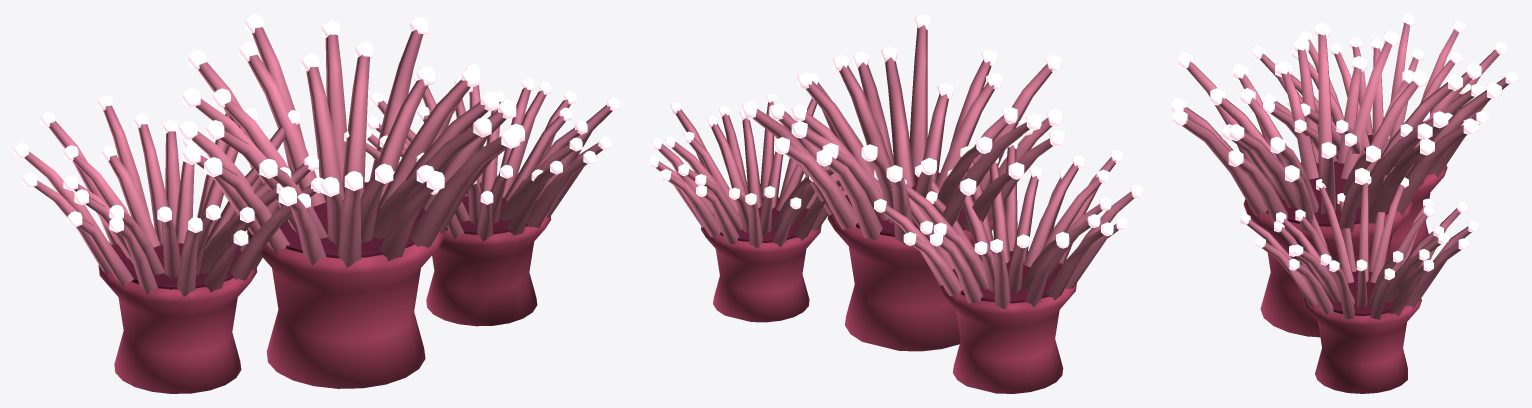
Rendered from anemone_patch.glb.
The picture shows the model from 3 angles, left to right: view 1: azimuth 30°, elevation 25°; view 2: azimuth 150°, elevation 25°; view 3: azimuth 270°, elevation 25°; orthographic projection. The views are drawn at different scales.
Visible parts, largest first — view 1: anemone_patch_mesh; view 2: anemone_patch_mesh; view 3: anemone_patch_mesh.
Boxes of the visible parts, left/top/right/bottom form: anemone_patch_mesh: left=14, top=14, right=619, bottom=393; anemone_patch_mesh: left=648, top=14, right=1142, bottom=393; anemone_patch_mesh: left=1171, top=14, right=1517, bottom=393.
Bounding box in the file's own units: 1.6 × 0.7513 × 1.02.
